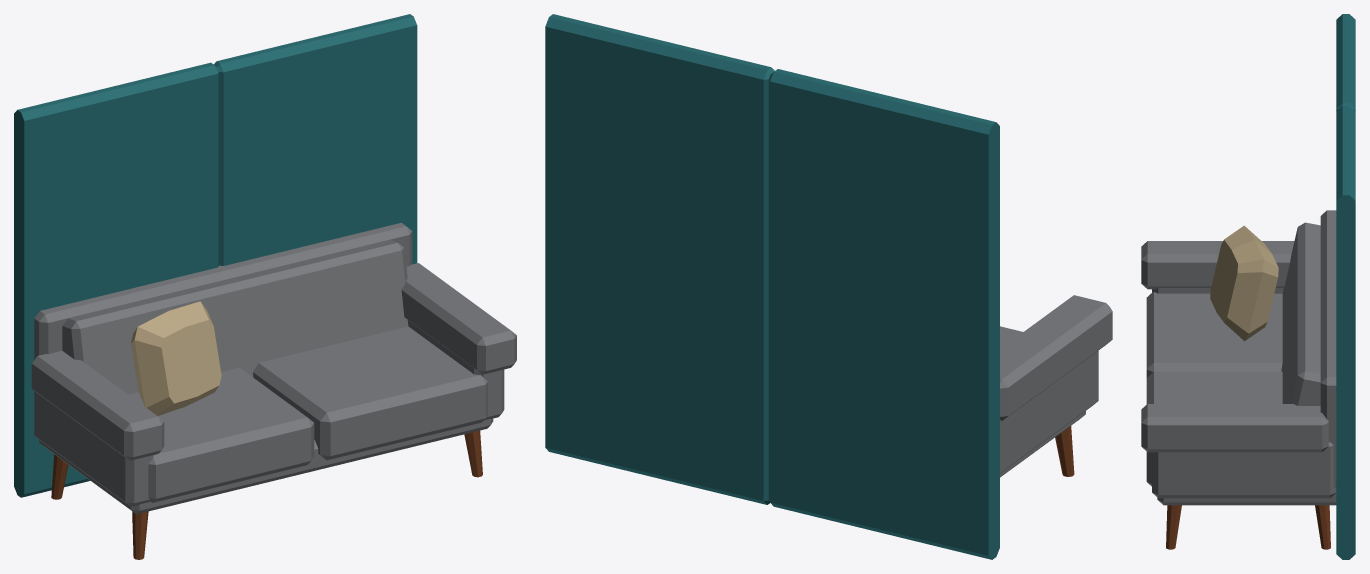
The model's file is breakout-sofa-module-1bb15e.glb.
3 renders of one model, left to right at view 1: azimuth 30°, elevation 25°; view 2: azimuth 150°, elevation 25°; view 3: azimuth 270°, elevation 25°, orthographic. The views are drawn at different scales.
Visible parts, largest first — view 1: breakout-sofa-module, cushions; view 2: breakout-sofa-module; view 3: breakout-sofa-module, cushions.
Boxes of the visible parts, x1,y1,x2,y2 form: breakout-sofa-module: (14,14,516,559); cushions: (131,301,221,415); breakout-sofa-module: (545,14,1112,559); breakout-sofa-module: (1141,14,1355,559); cushions: (1210,225,1278,341).
Bounding box in the file's own units: 1.6 × 1.5 × 0.8.
